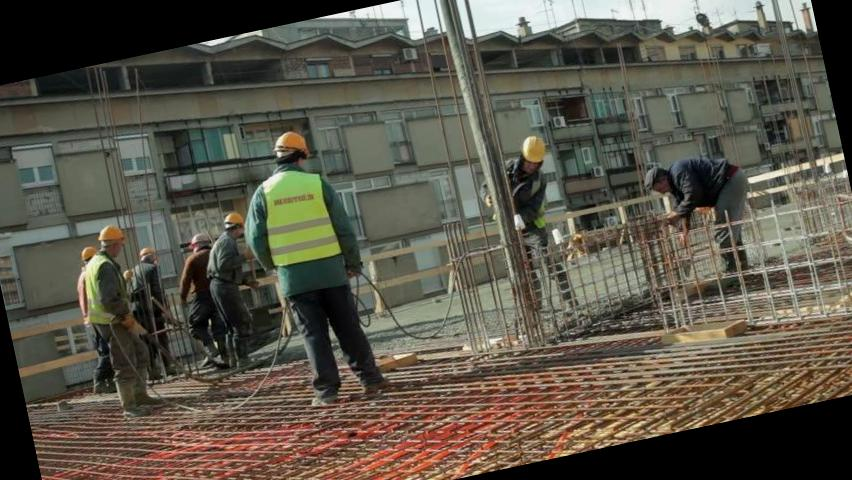helmet: (272, 123, 317, 159), (96, 223, 127, 248)
person: (230, 116, 398, 407), (65, 212, 172, 422)
